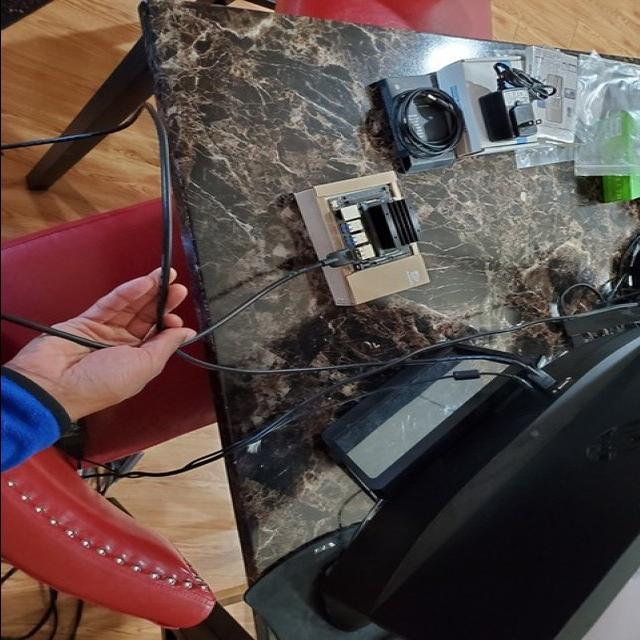Jetson Nano: (326, 188, 419, 271)
